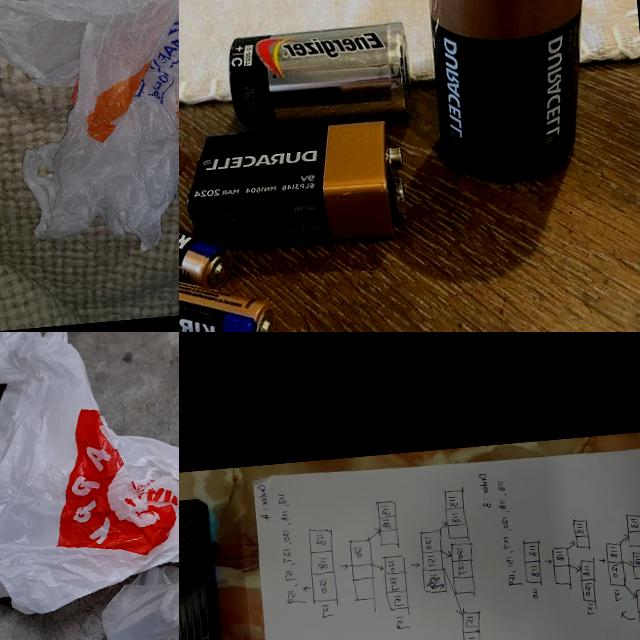bateria: (418, 0, 608, 188), (179, 118, 414, 256), (224, 20, 413, 134), (179, 246, 279, 332), (179, 181, 236, 304)
papel: (247, 438, 640, 640)
sacola plástica: (0, 332, 179, 625), (0, 0, 179, 271), (84, 408, 179, 640)
